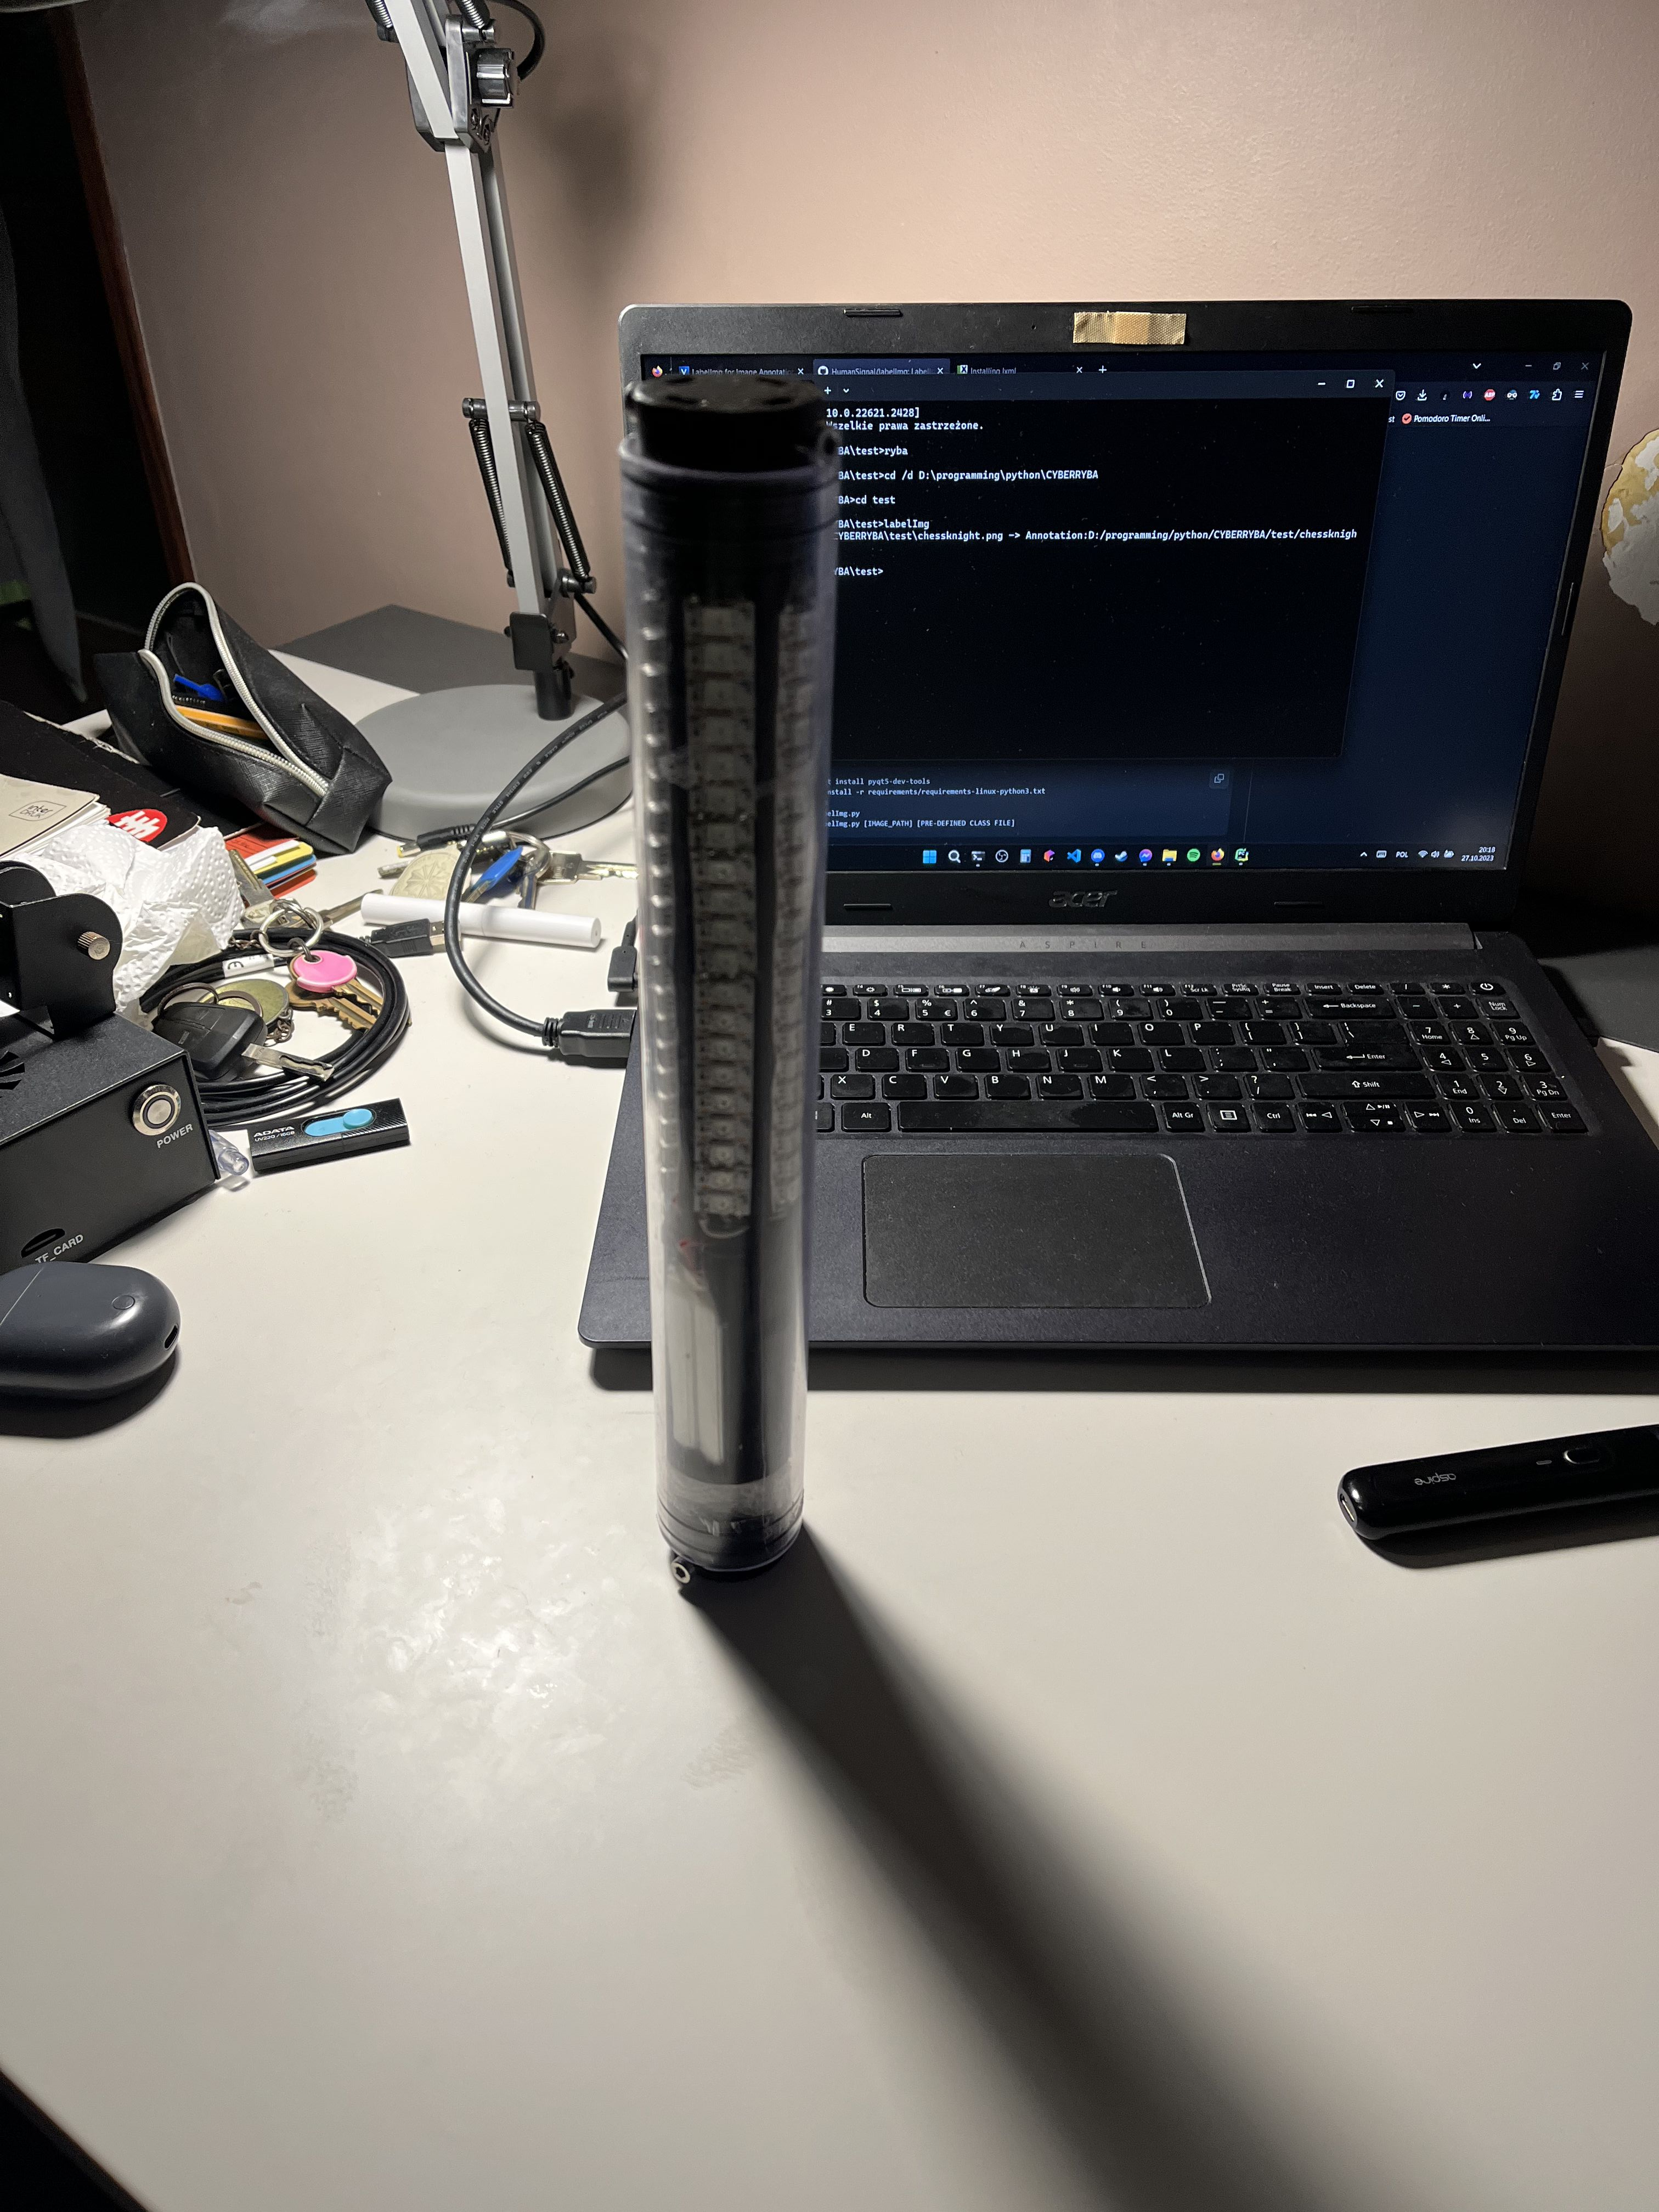black: (620, 381, 821, 1585)
